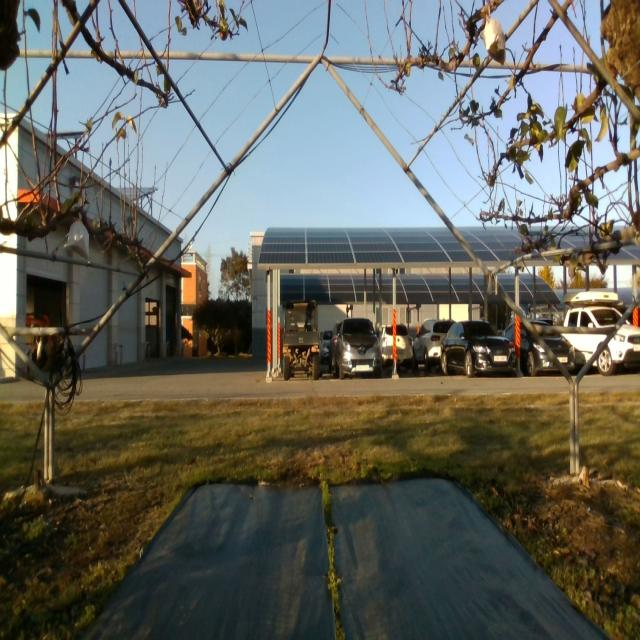pearbags: (64, 212, 90, 263), (484, 7, 506, 63)
